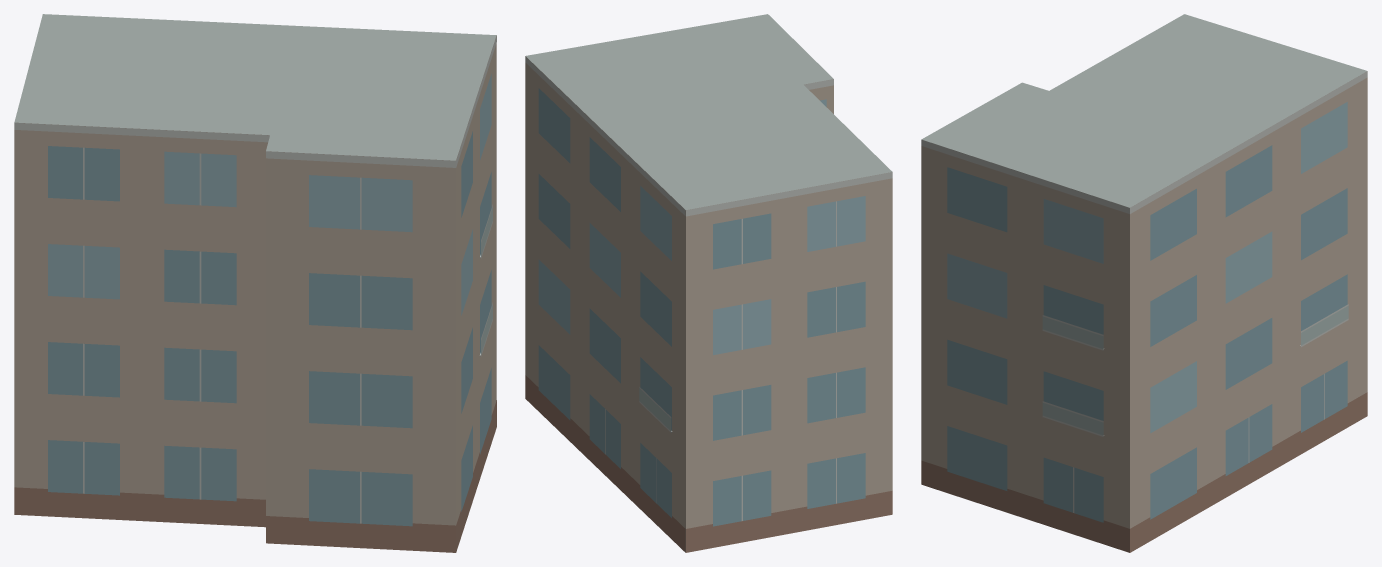
Rendered from survey-upis-32810745.glb.
3 renders of one model, left to right at view 1: azimuth 30°, elevation 25°; view 2: azimuth 150°, elevation 25°; view 3: azimuth 270°, elevation 25°, orthographic. The views are drawn at different scales.
Visible parts, largest first — view 1: survey-upis-32810745.tmp; view 2: survey-upis-32810745.tmp; view 3: survey-upis-32810745.tmp.
Part boxes in pixels (bbox=[...]): survey-upis-32810745.tmp: bbox=[14, 14, 496, 552]; survey-upis-32810745.tmp: bbox=[525, 14, 892, 552]; survey-upis-32810745.tmp: bbox=[921, 14, 1367, 552].
Size of the model in its own units: 15.91 by 13.2 by 15.48.
